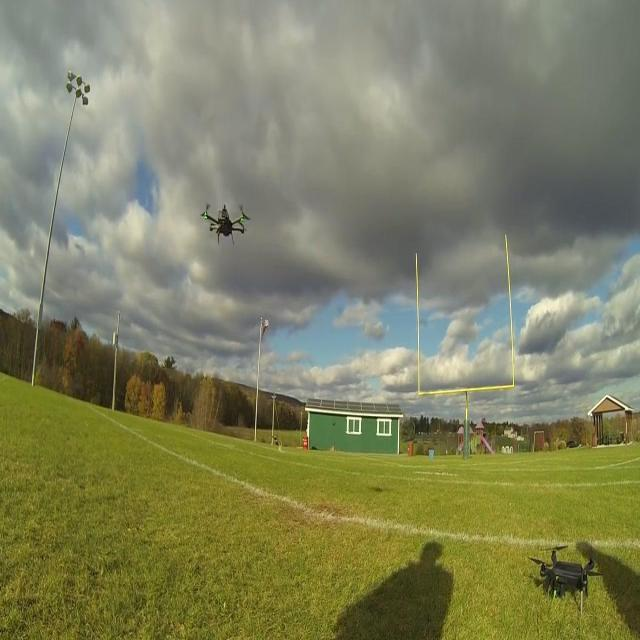drone: (200, 200, 252, 249)
